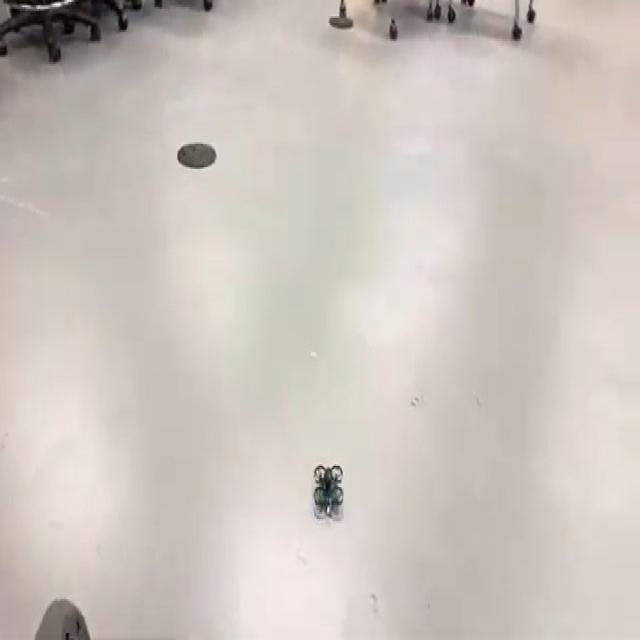drone: (302, 452, 352, 528)
